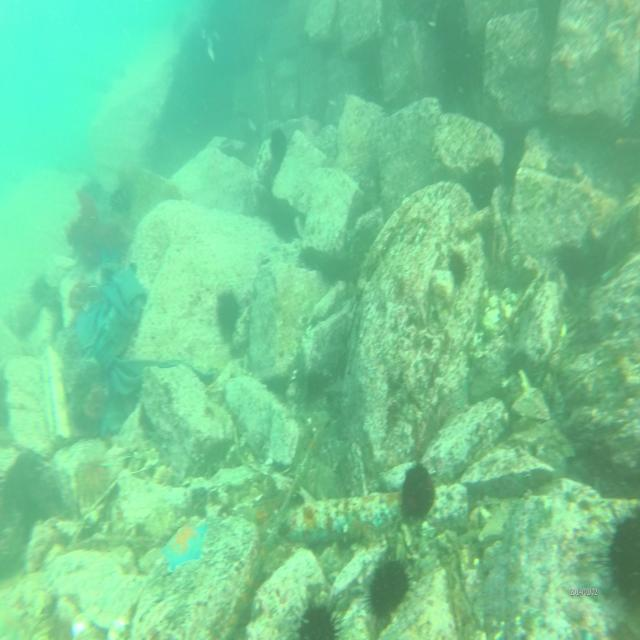echinus: (600, 500, 640, 599), (362, 558, 414, 620), (397, 464, 439, 521), (291, 594, 341, 640), (213, 288, 242, 341), (448, 249, 468, 288), (268, 126, 288, 160)
starfish: (160, 518, 208, 574)
